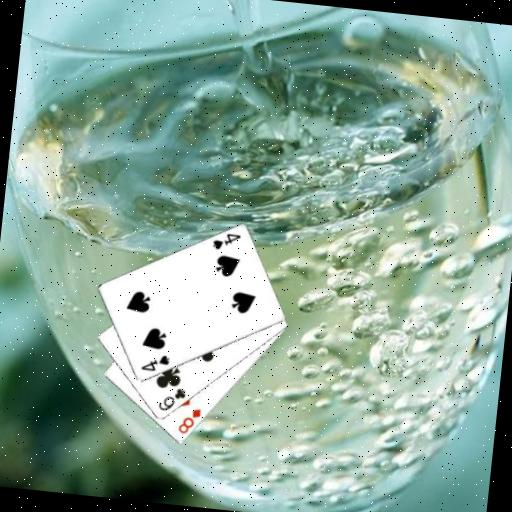4S: (138, 350, 172, 375), (209, 229, 243, 254)
6C: (155, 383, 188, 415)
8D: (174, 404, 203, 438)
